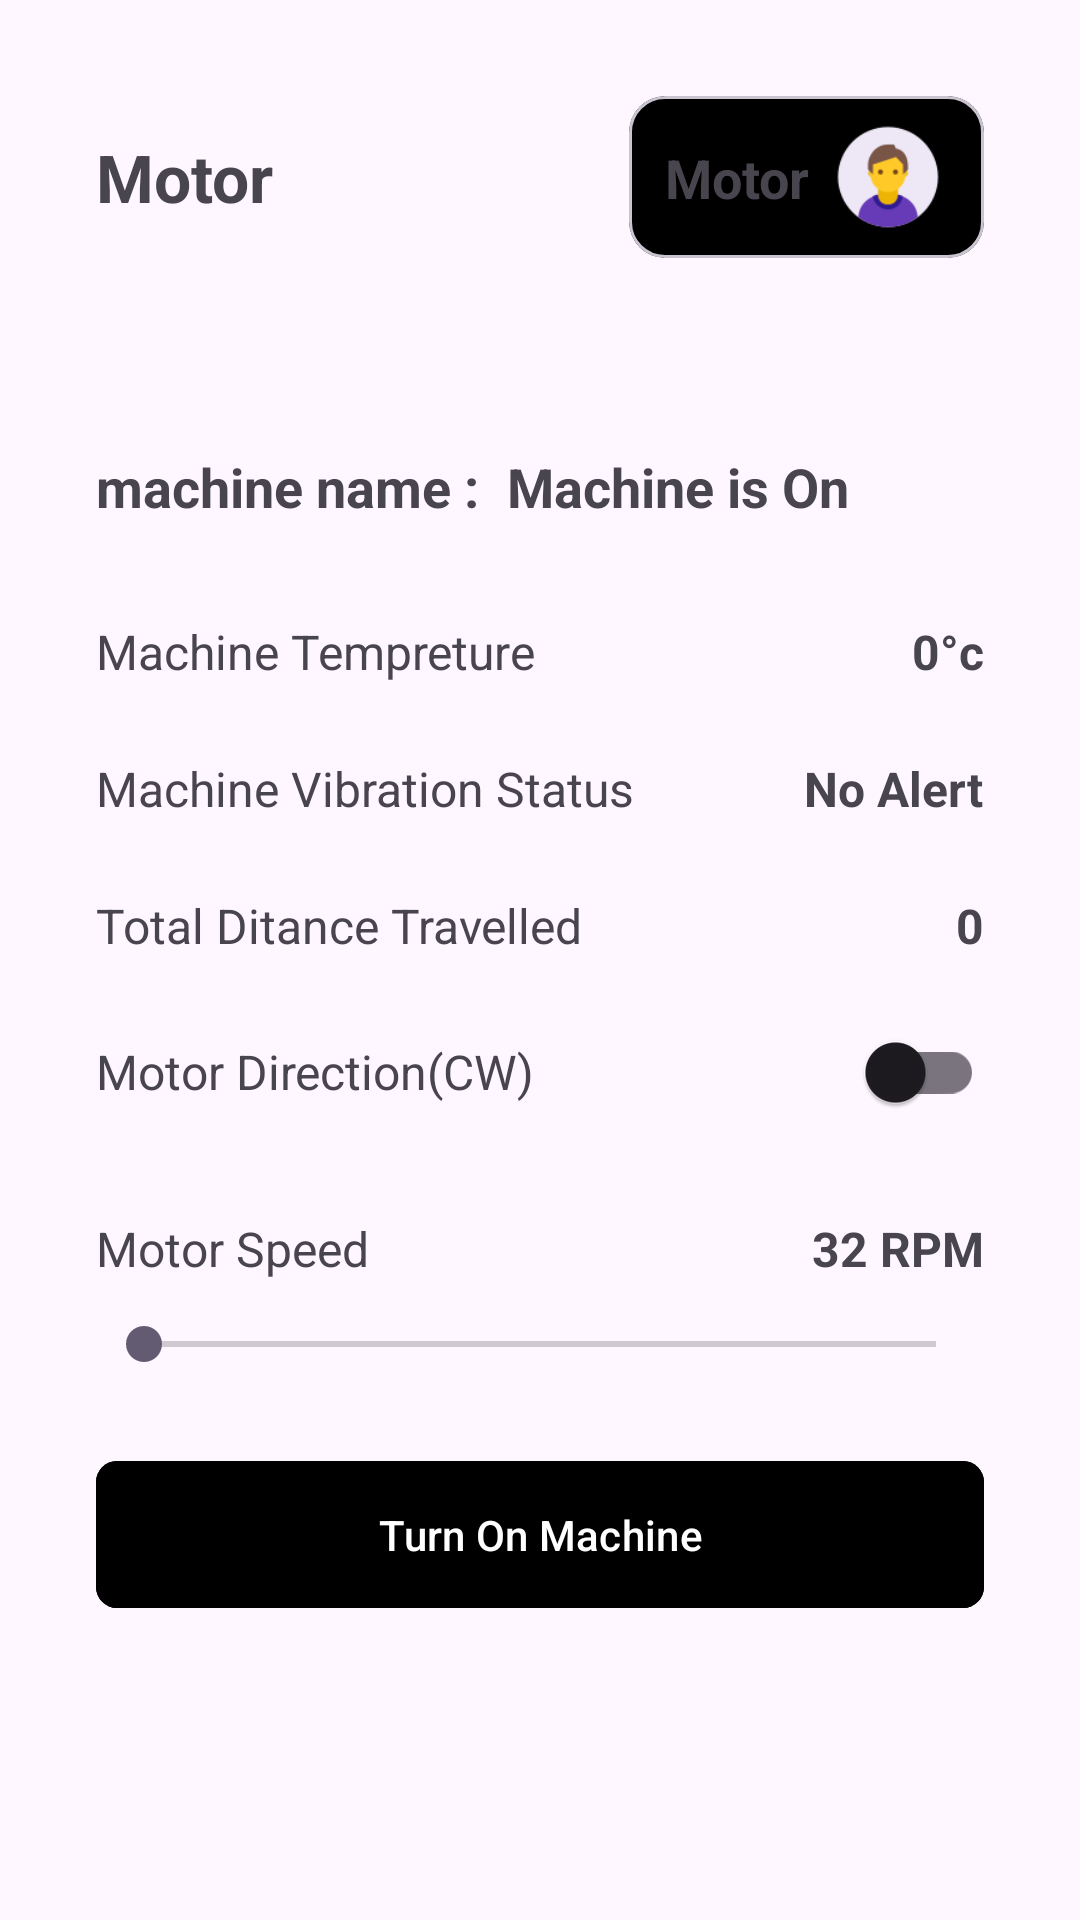

Named icons in this screenshot (1080×1920) and their bounding boxes, (x1, y1, x2, y2):
user profile: (837, 126, 939, 228)
